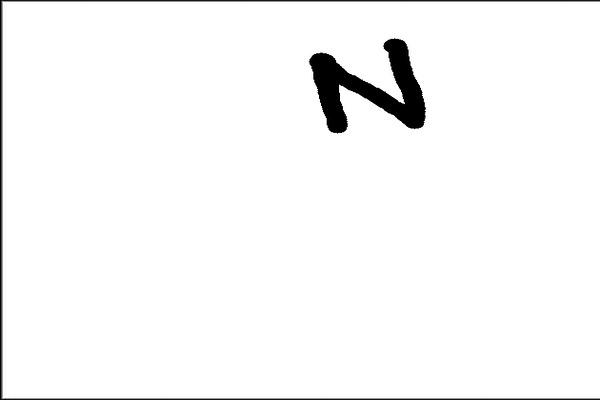N: (305, 34, 437, 137)
